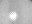person: (11, 12, 18, 21)
